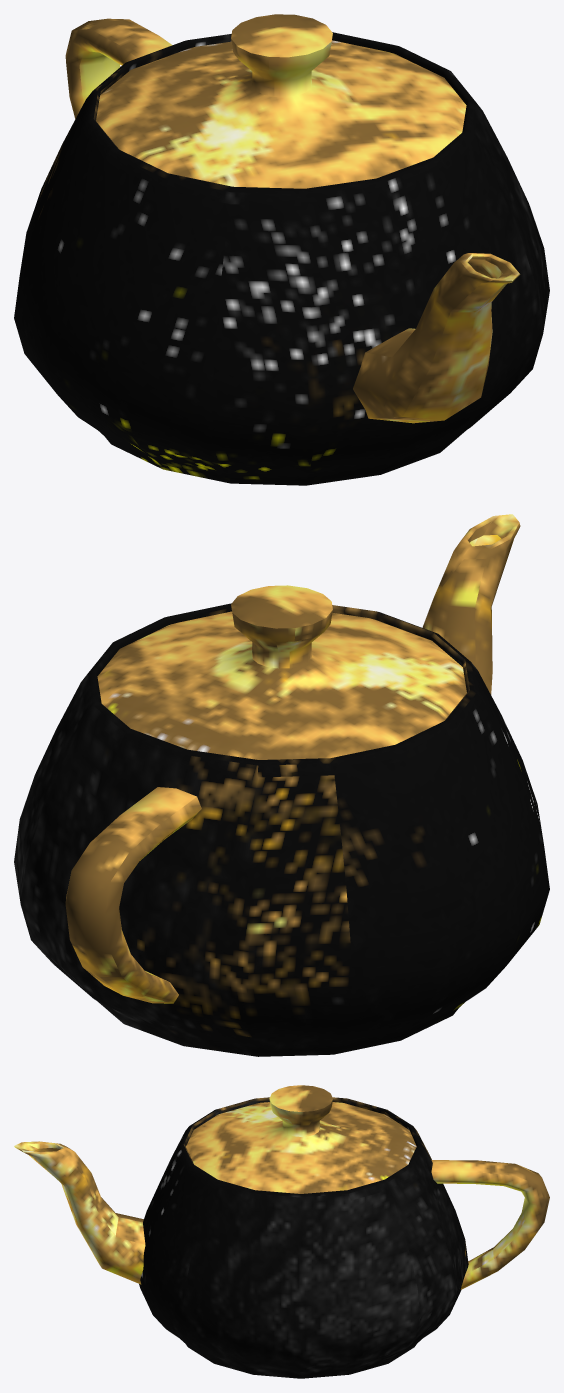
File: teapot.obj
3 renders of one model, top to bottom at view 1: azimuth 30°, elevation 25°; view 2: azimuth 150°, elevation 25°; view 3: azimuth 270°, elevation 25°, orthographic. The views are drawn at different scales.
Parts seen in each view (by area): view 1: Handle202; view 2: Handle202; view 3: Handle202.
Part boxes in pixels (box(x1,y1,x2,y2)): Handle202: box(14, 14, 549, 485); Handle202: box(14, 514, 549, 1056); Handle202: box(14, 1085, 549, 1378).
Bounding box in the file's own units: 1.97 × 1.55 × 3.15.
